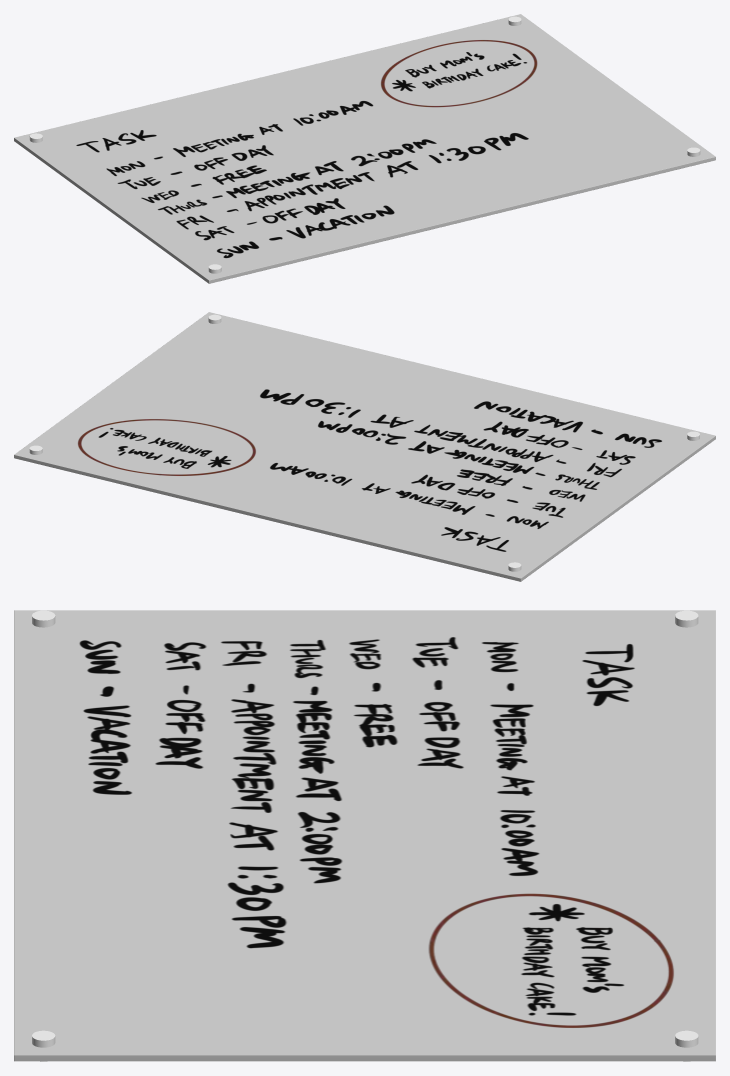
The model's file is glass_board.glb.
3 renders of one model, top to bottom at view 1: azimuth 30°, elevation 25°; view 2: azimuth 150°, elevation 25°; view 3: azimuth 270°, elevation 25°, orthographic. The views are drawn at different scales.
Parts seen in each view (by area): view 1: White Board.001, White Board.002, Cylinder.001; view 2: White Board.001, White Board.002, Cylinder.001; view 3: White Board.001, White Board.002, Cylinder.001.
Boxes of the visible parts, left/top/right/bottom form: White Board.001: left=14, top=14, right=715, bottom=283; White Board.002: left=76, top=40, right=537, bottom=257; Cylinder.001: left=29, top=16, right=700, bottom=273; White Board.001: left=14, top=312, right=715, bottom=581; White Board.002: left=78, top=389, right=661, bottom=551; Cylinder.001: left=29, top=314, right=699, bottom=571; White Board.001: left=14, top=610, right=715, bottom=1061; White Board.002: left=79, top=637, right=673, bottom=1027; Cylinder.001: left=32, top=610, right=698, bottom=1061.
Size of the model in its own units: 0.9 by 0.02 by 0.6.
Materials: 3 (1 with a texture image).
